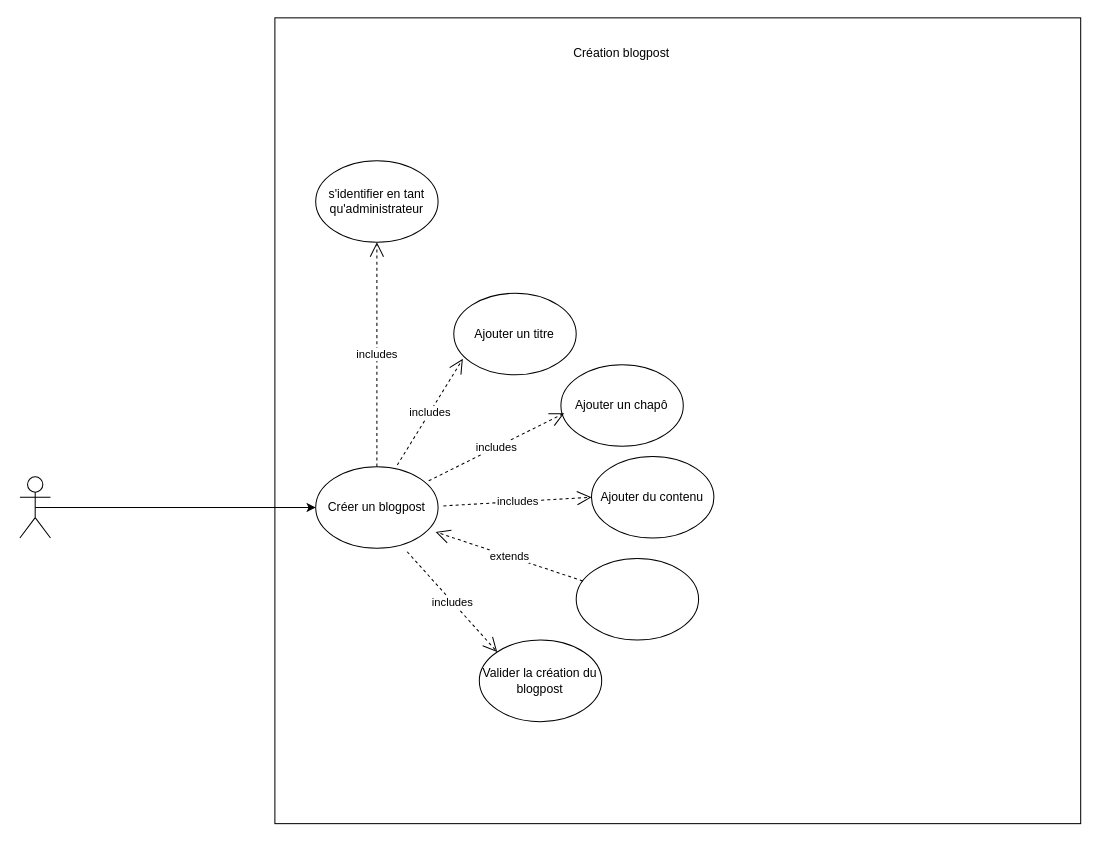
Image size: 1099x842. Some labels were removed from this diagram. Each missing label, with the centre of its shape:
"ajouter une photo" goes at point (637, 598).
"Auteur" goes at point (34, 507).
